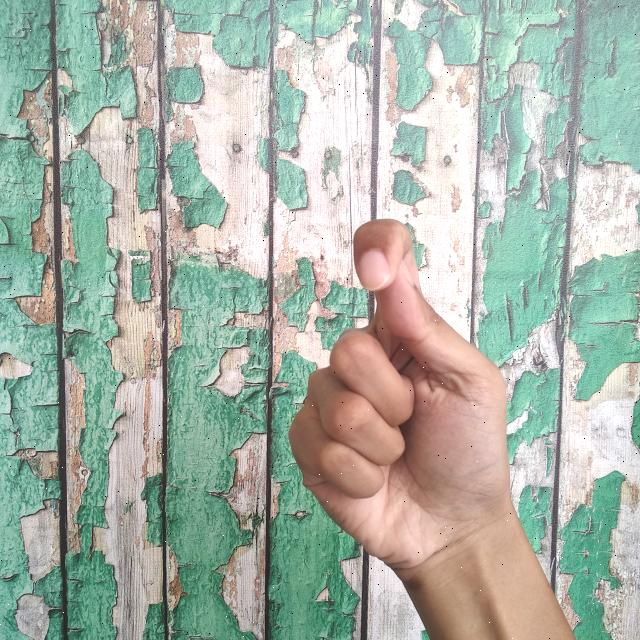X: (281, 211, 578, 640)
